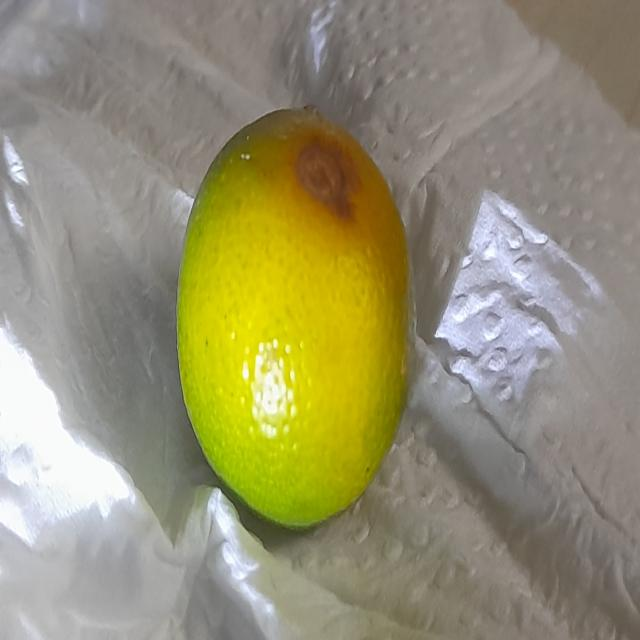greening: (174, 103, 419, 540)
